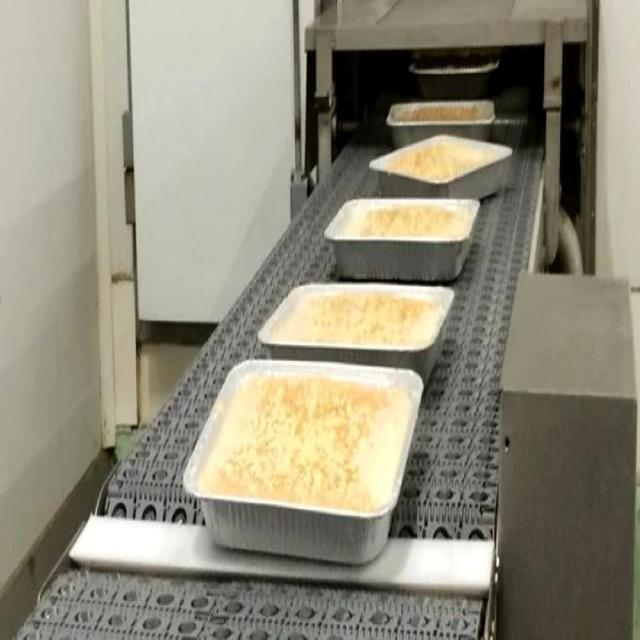food: (181, 357, 424, 567), (256, 279, 456, 388), (322, 194, 480, 284)
